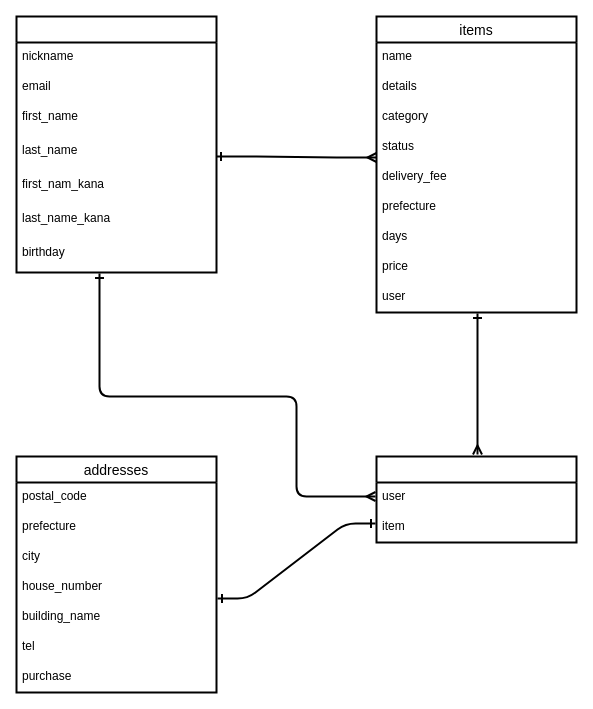
Some shapes in this 593 by 709 pixel diagram are drawn without their labels. Here are the shapes that lost their labels. From the top down, the box of each, then its label:
(15, 15, 217, 273): users
(375, 455, 577, 543): purchases
